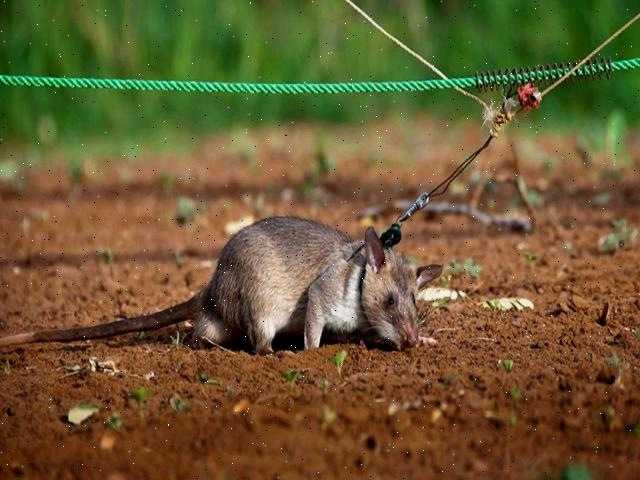Tikus: (134, 216, 444, 352)
